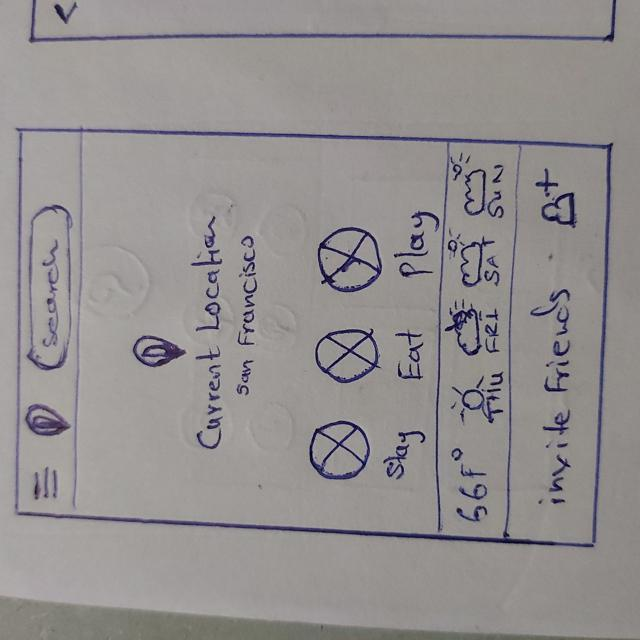AppBar: (12, 125, 85, 521)
DrawerToggleButton: (32, 467, 60, 502)
EditText: (27, 203, 71, 376)
Icon: (129, 329, 192, 372), (535, 177, 580, 236), (451, 153, 483, 222), (22, 403, 72, 442), (448, 302, 481, 357), (448, 242, 483, 292), (452, 385, 486, 419)
Layout: (505, 137, 605, 548), (437, 136, 519, 543)
MainLayout: (7, 119, 609, 558)
RoundedImage: (315, 224, 385, 295), (306, 418, 372, 479), (315, 330, 383, 384)
TextView: (195, 217, 226, 451), (540, 291, 572, 512), (442, 447, 491, 524), (238, 230, 253, 403), (386, 428, 427, 489), (392, 331, 432, 392), (400, 206, 429, 286)
